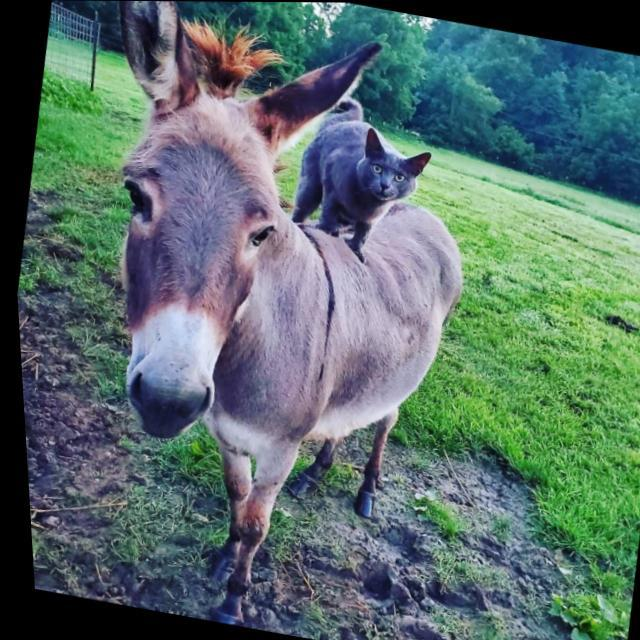Donkey: (63, 0, 357, 474), (316, 117, 432, 240)
